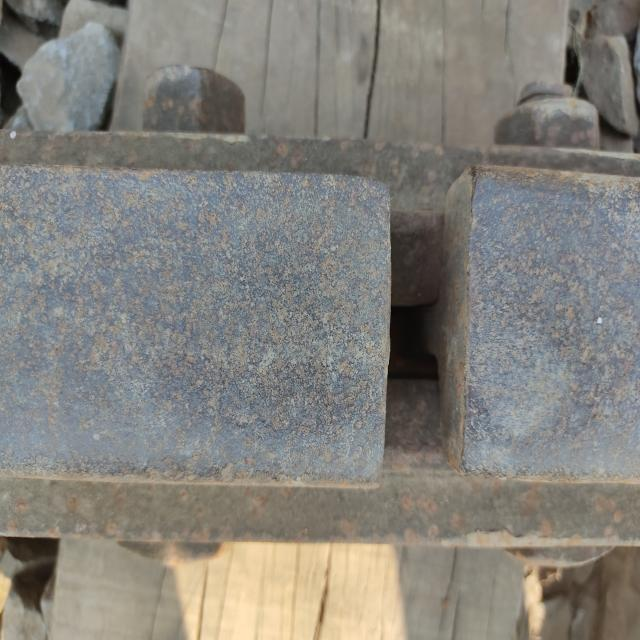defective: (234, 49, 608, 538)
